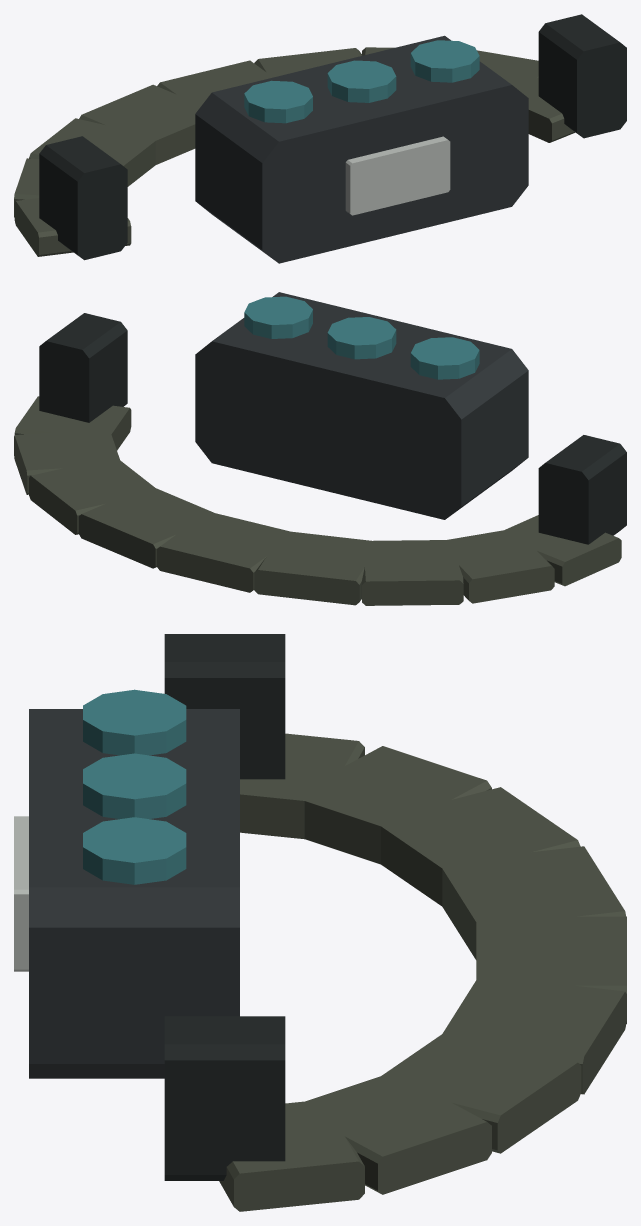
File: PersonalShield.gltf
3 views of the same model, one above another, from view 1: azimuth 30°, elevation 25°; view 2: azimuth 150°, elevation 25°; view 3: azimuth 270°, elevation 25° (orthographic). The views are drawn at different scales.
Parts seen in each view (by area): view 1: PersonalShield; view 2: PersonalShield; view 3: PersonalShield.
Boxes of the visible parts, left/top/right/bottom form: PersonalShield: left=14, top=14, right=626, bottom=263; PersonalShield: left=14, top=292, right=626, bottom=605; PersonalShield: left=14, top=634, right=626, bottom=1211.
Size of the model in its own units: 0.35 by 0.078 by 0.2033.
